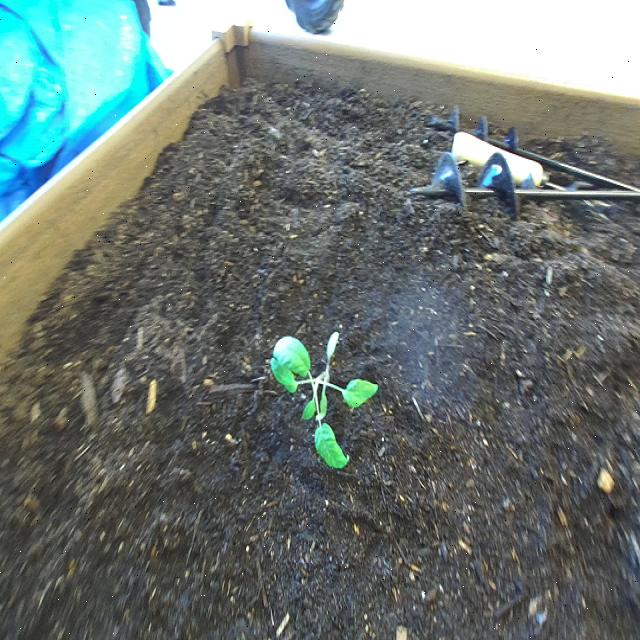Healthy: (268, 320, 381, 476)
